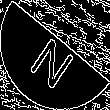N_NE: (28, 23, 82, 87)
